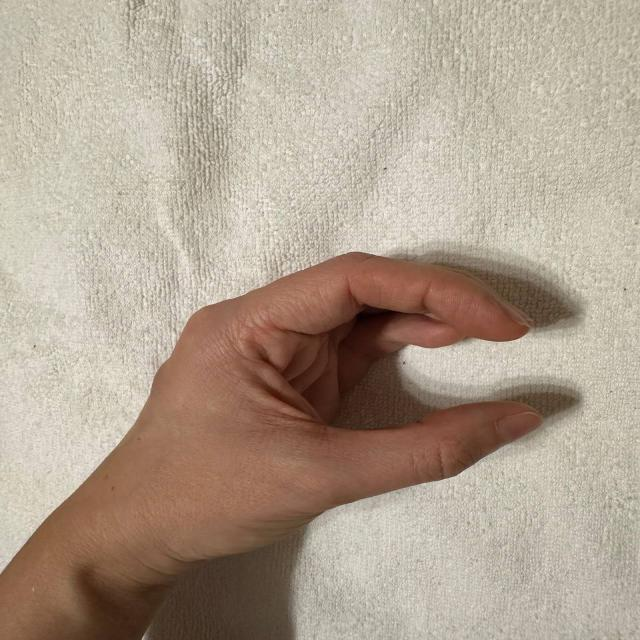s: (102, 244, 596, 538)
